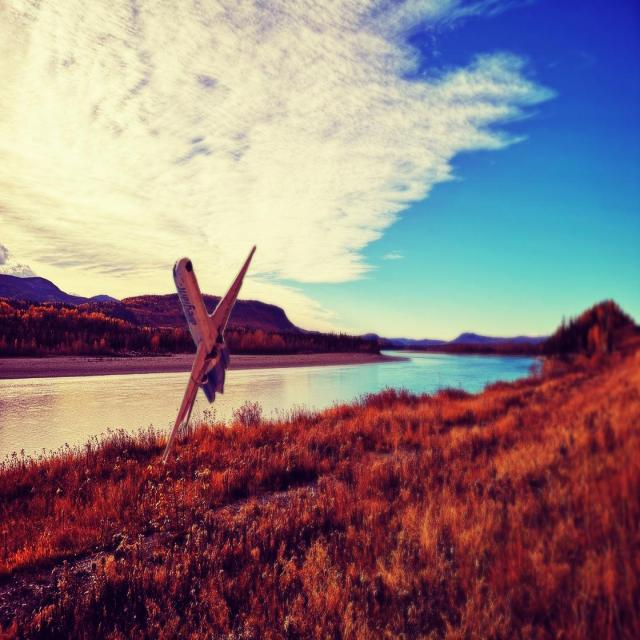airplane: (160, 244, 256, 465)
